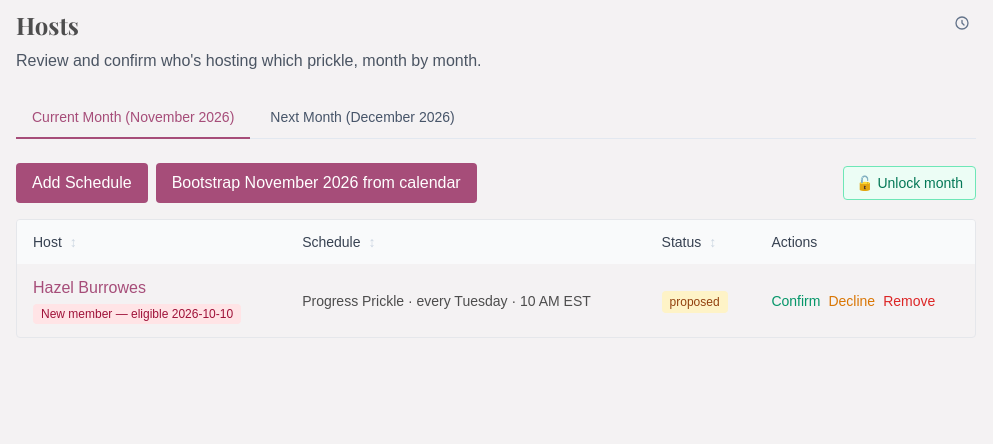
HostsClient bootstrap from calendar › bootstraps the next month from the Next Month tab
Expected: the link "Hazel Burrowes" is shown, top-left (33, 279), bottom-right (146, 296)
Click the tab "Next Month (December 2026)" at (362, 118), box top-left (254, 97), bottom-right (471, 139)
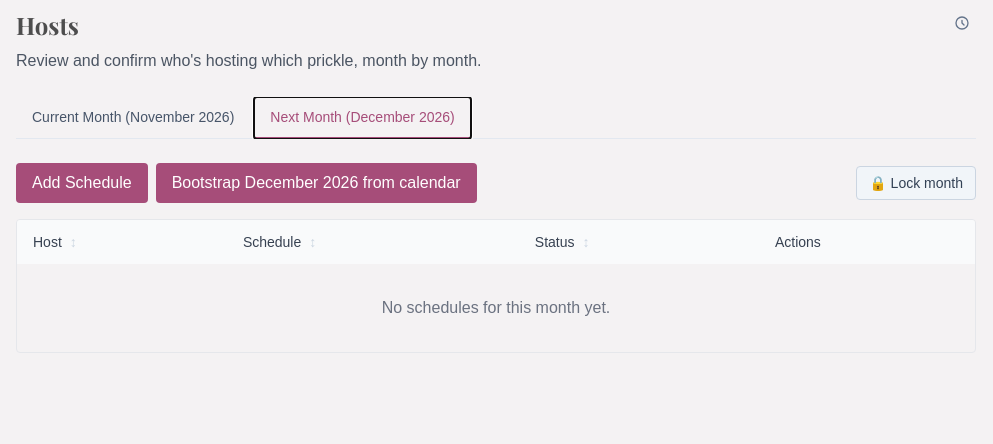
Now the text "No schedules for this month yet." is shown, box top-left (17, 264), bottom-right (975, 352)
Click the button "Bootstrap December 2026 from calendar" at (316, 183), box top-left (156, 163), bottom-right (477, 203)
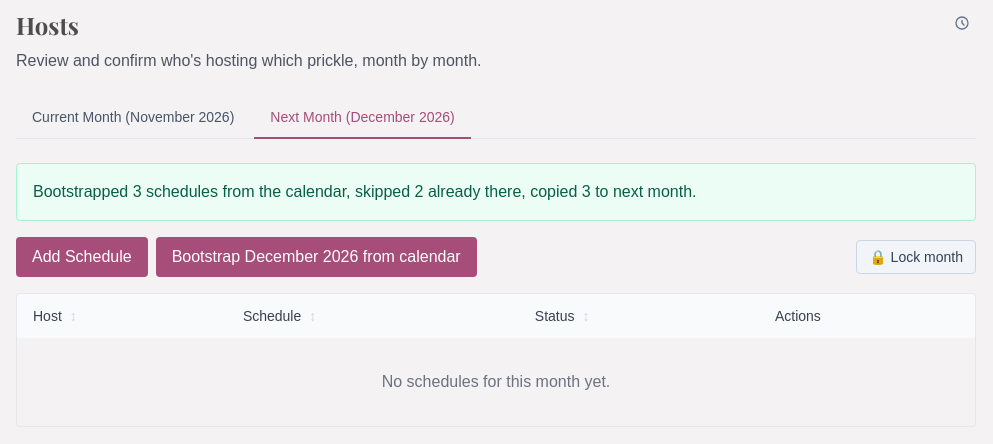
Now the text "Bootstrapped 3 schedules" is shown, box top-left (33, 183), bottom-right (696, 200)
